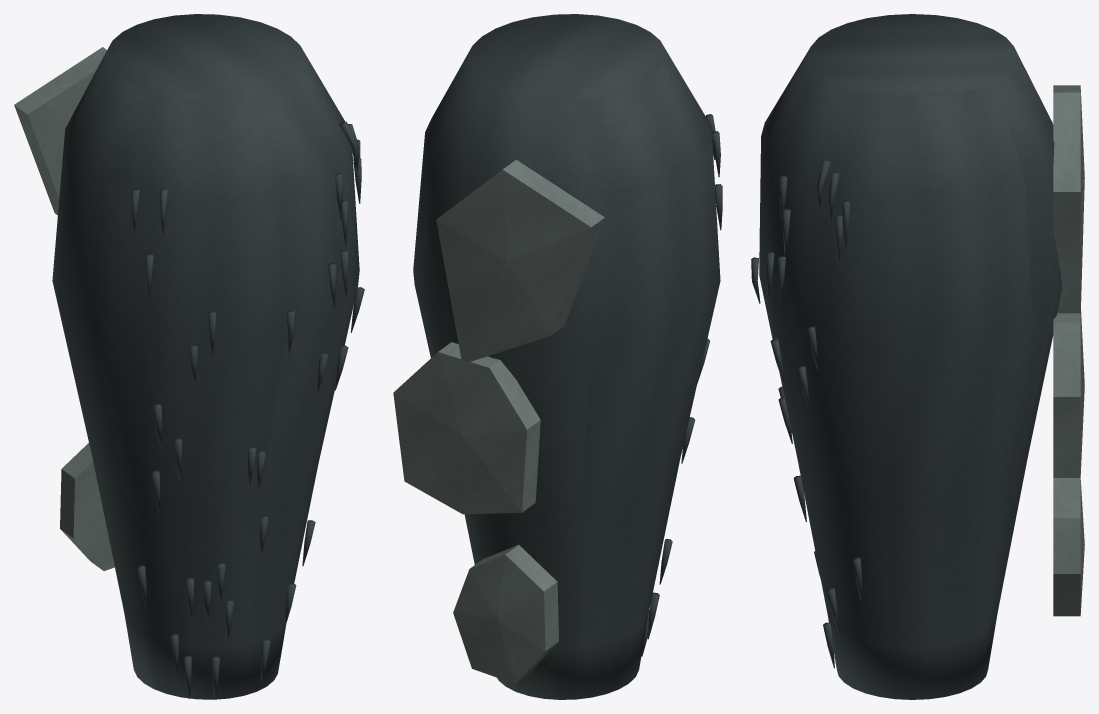
File: shin_l_lod0.glb
3 views of the same model, side by side, from view 1: azimuth 30°, elevation 25°; view 2: azimuth 150°, elevation 25°; view 3: azimuth 270°, elevation 25° (orthographic).
Parts seen in each view (by area): view 1: dormin_shin_l_LOD0; view 2: dormin_shin_l_LOD0; view 3: dormin_shin_l_LOD0.
Part boxes in pixels (x1,y1,x2,y2): dormin_shin_l_LOD0: (14,14,364,699); dormin_shin_l_LOD0: (393,14,722,699); dormin_shin_l_LOD0: (751,14,1084,699).
Size of the model in its own units: 1.64 by 3.58 by 1.76.
2 materials, 2 textured.
